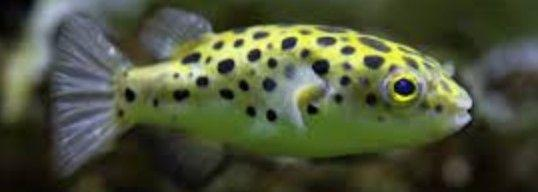Green Spotted Puffer: (53, 7, 473, 177)
